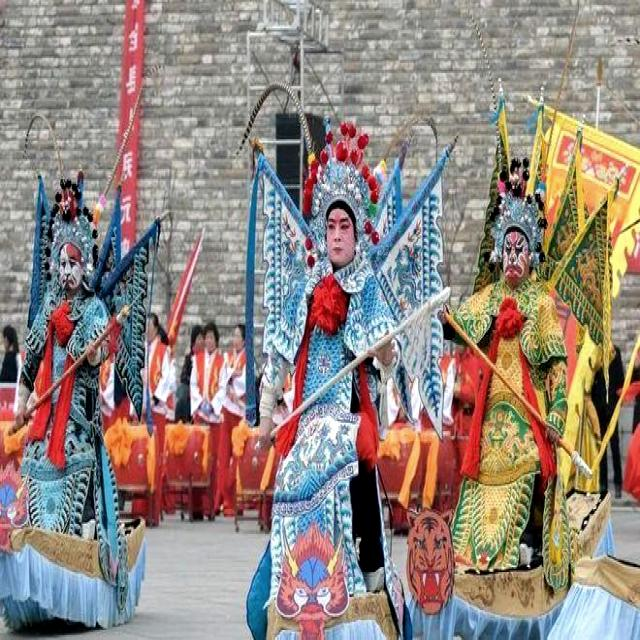Reeves-s Pheasant: (228, 76, 316, 171)
